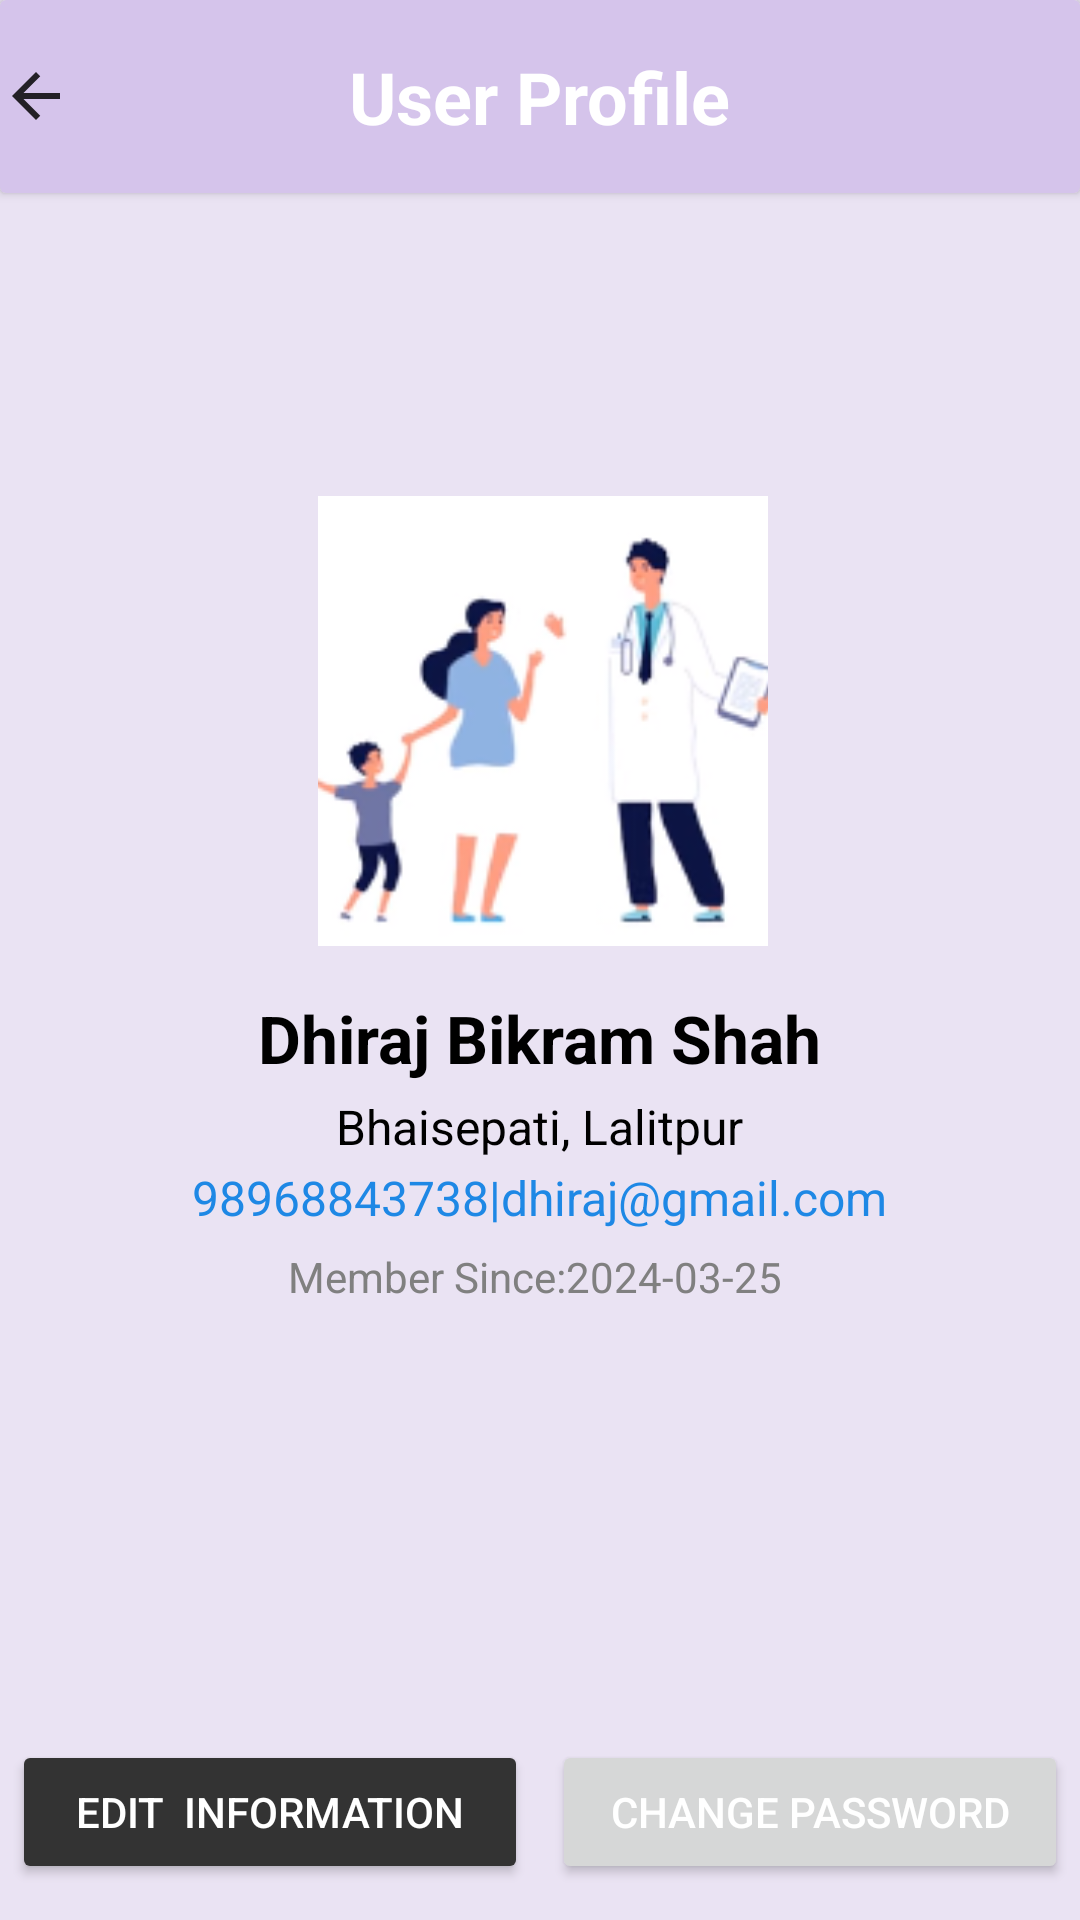

Icon bounding boxes for this 1080*1920 phone screenshot, format (x1, y1, x2, y2):
back arrow: (12, 72, 60, 120)
